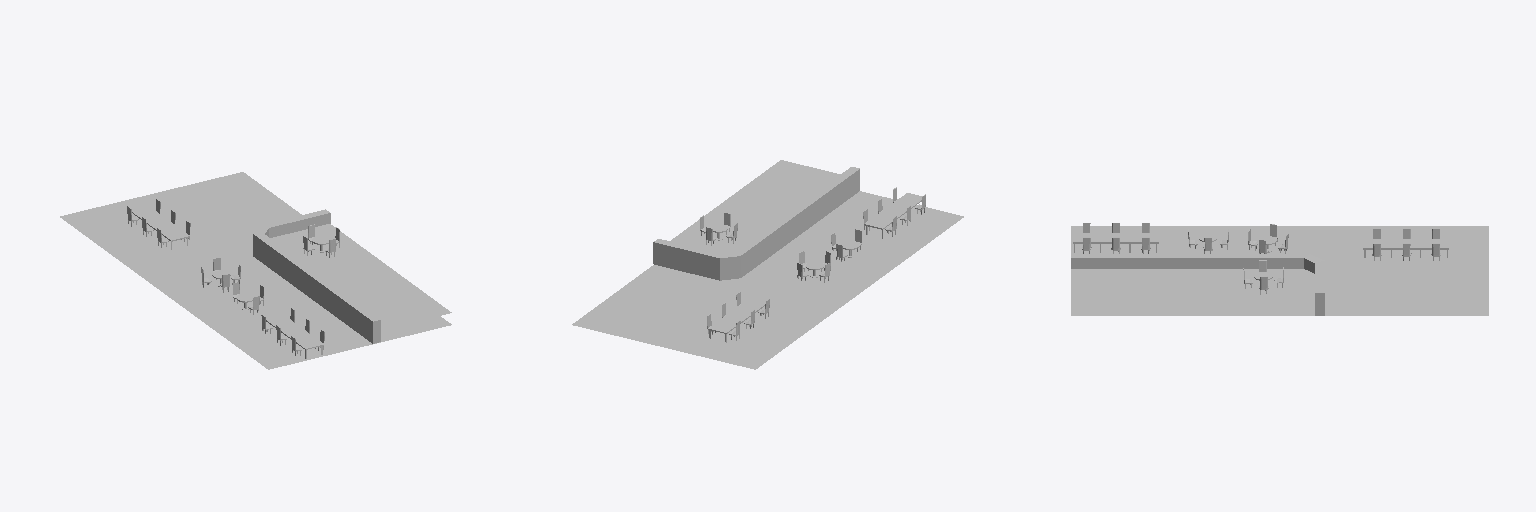
Rendered from plan_2.obj.
3 renders of one model, left to right at view 1: azimuth 30°, elevation 25°; view 2: azimuth 150°, elevation 25°; view 3: azimuth 270°, elevation 25°, orthographic.
Parts seen in each view (by area): view 1: Plane, Cube.011, Cube.008, Cube.025; view 2: Plane, Cube.011, Cube.025, Cube.008; view 3: Plane, Cube.011, Cube.008, Cube.025.
Part boxes in pixels (x1,y1,x2,y2): Plane: (60,172,451,369); Cube.011: (253,209,451,343); Cube.008: (131,205,189,241); Cube.025: (266,313,323,349); Plane: (572,191,963,369); Cube.011: (653,160,859,280); Cube.025: (864,193,921,229); Cube.008: (708,297,765,333); Plane: (1071,226,1488,315); Cube.011: (1071,254,1324,315); Cube.008: (1363,239,1448,249); Cube.025: (1073,233,1158,243).
Size of the model in its own units: 165 by 26.36 by 324.